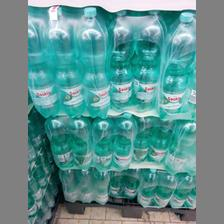Wasser: (40, 6, 84, 116), (72, 6, 110, 119), (156, 10, 196, 114), (132, 11, 164, 109), (105, 9, 133, 111)
